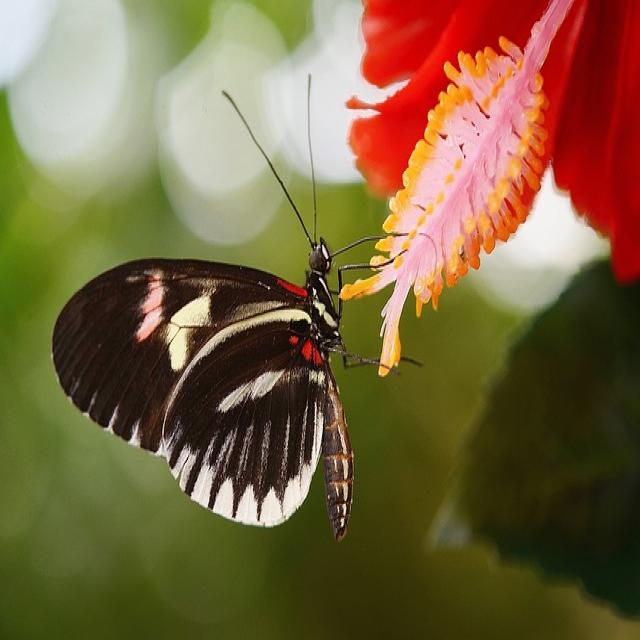butterfly: (55, 240, 352, 536)
